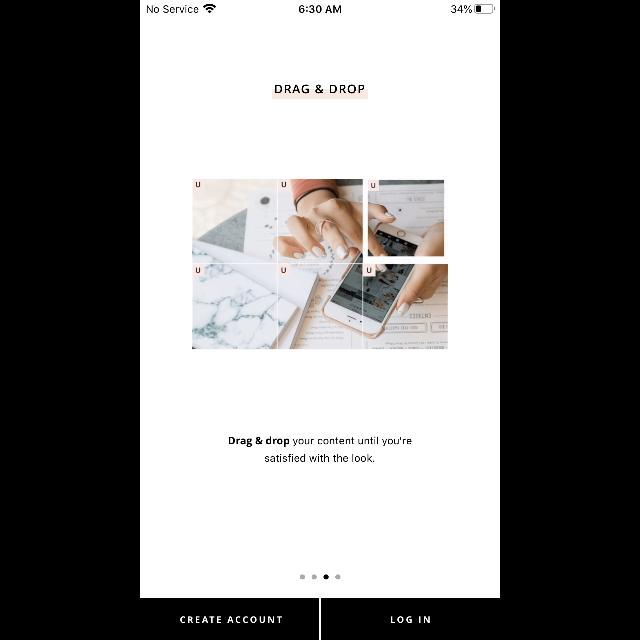image: (192, 178, 448, 350)
pageindicator: (300, 575, 340, 579)
text: (229, 436, 411, 462), (276, 85, 364, 94)
textbutton: (321, 598, 499, 640), (141, 598, 319, 640)
uppertaskbar: (140, 0, 500, 14)
